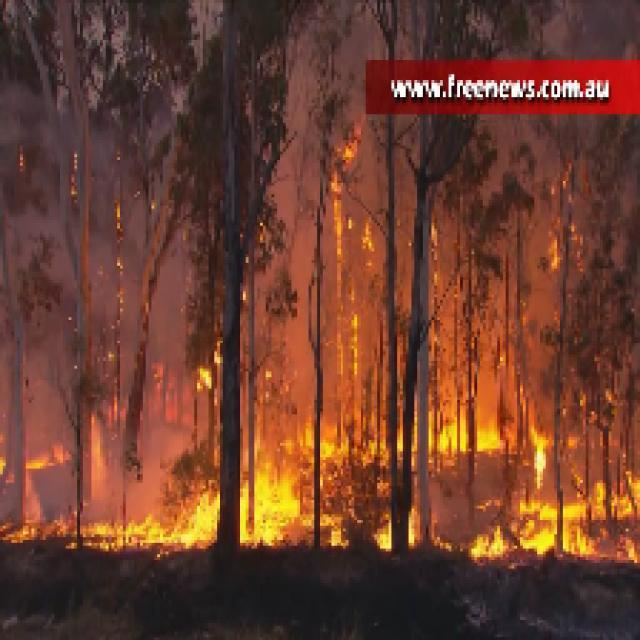Fire: (2, 434, 218, 549), (323, 128, 383, 460), (468, 480, 640, 557), (237, 428, 312, 548)
Smoke: (2, 17, 178, 366), (291, 3, 363, 120)
